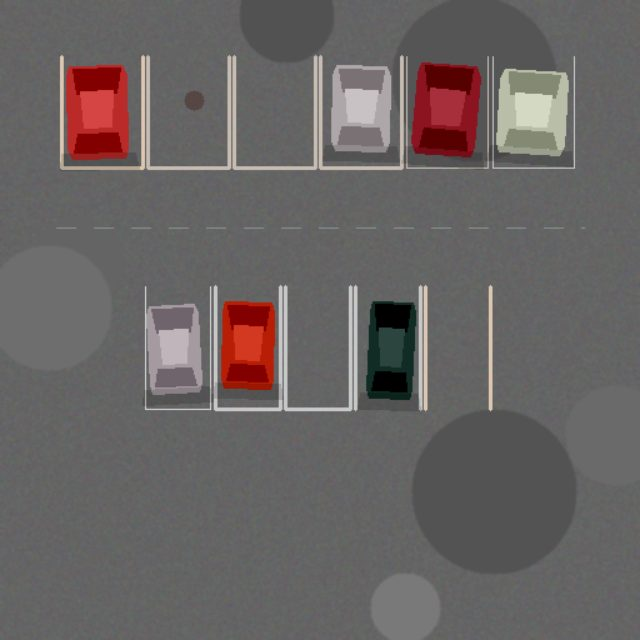space-empty: (147, 56, 229, 168), (234, 56, 315, 168), (285, 286, 350, 409), (425, 286, 490, 409)
space-occupied: (61, 56, 143, 168), (320, 56, 401, 168), (406, 56, 487, 168), (493, 56, 574, 168), (145, 286, 210, 409), (215, 286, 280, 409), (355, 286, 420, 409)
